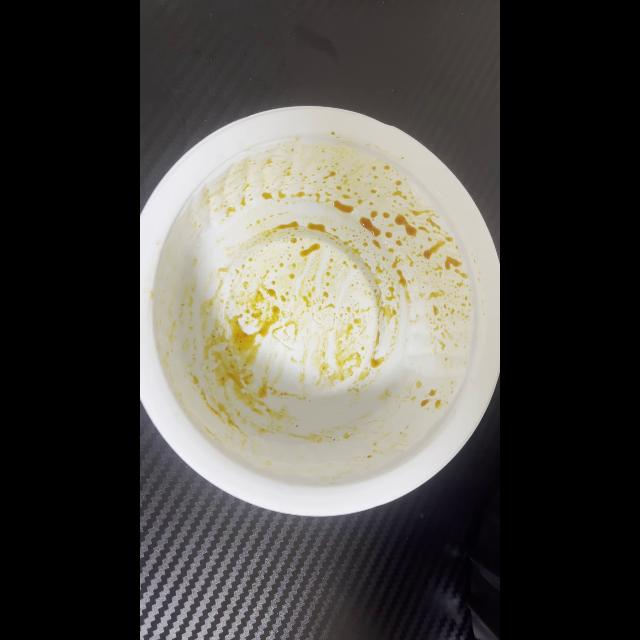dirty: (140, 107, 496, 509)
